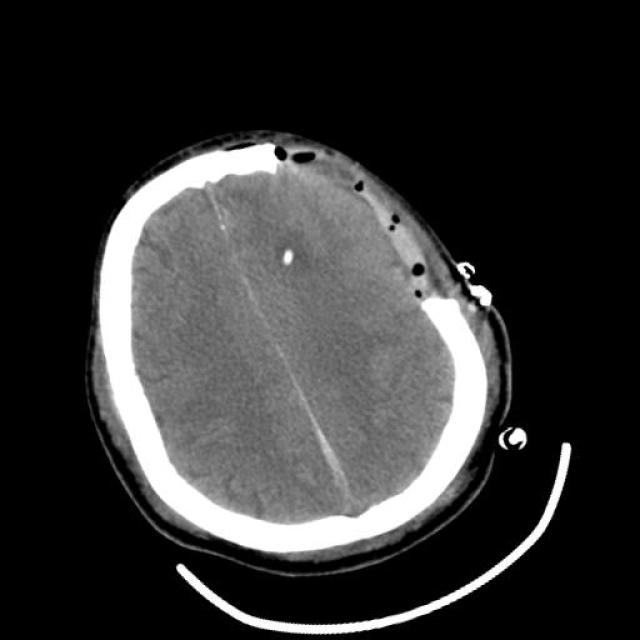Subdural: (248, 347, 414, 572)
